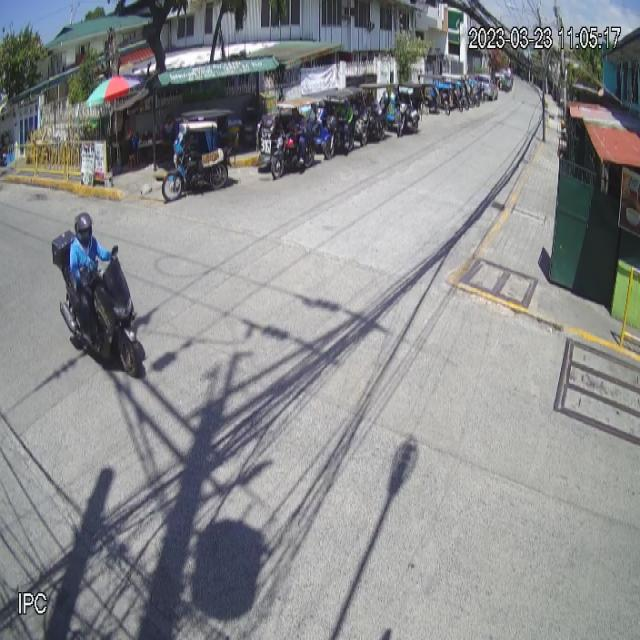Motorcycle: (51, 229, 142, 378)
